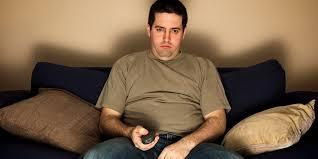Persons: (143, 1, 192, 63)
